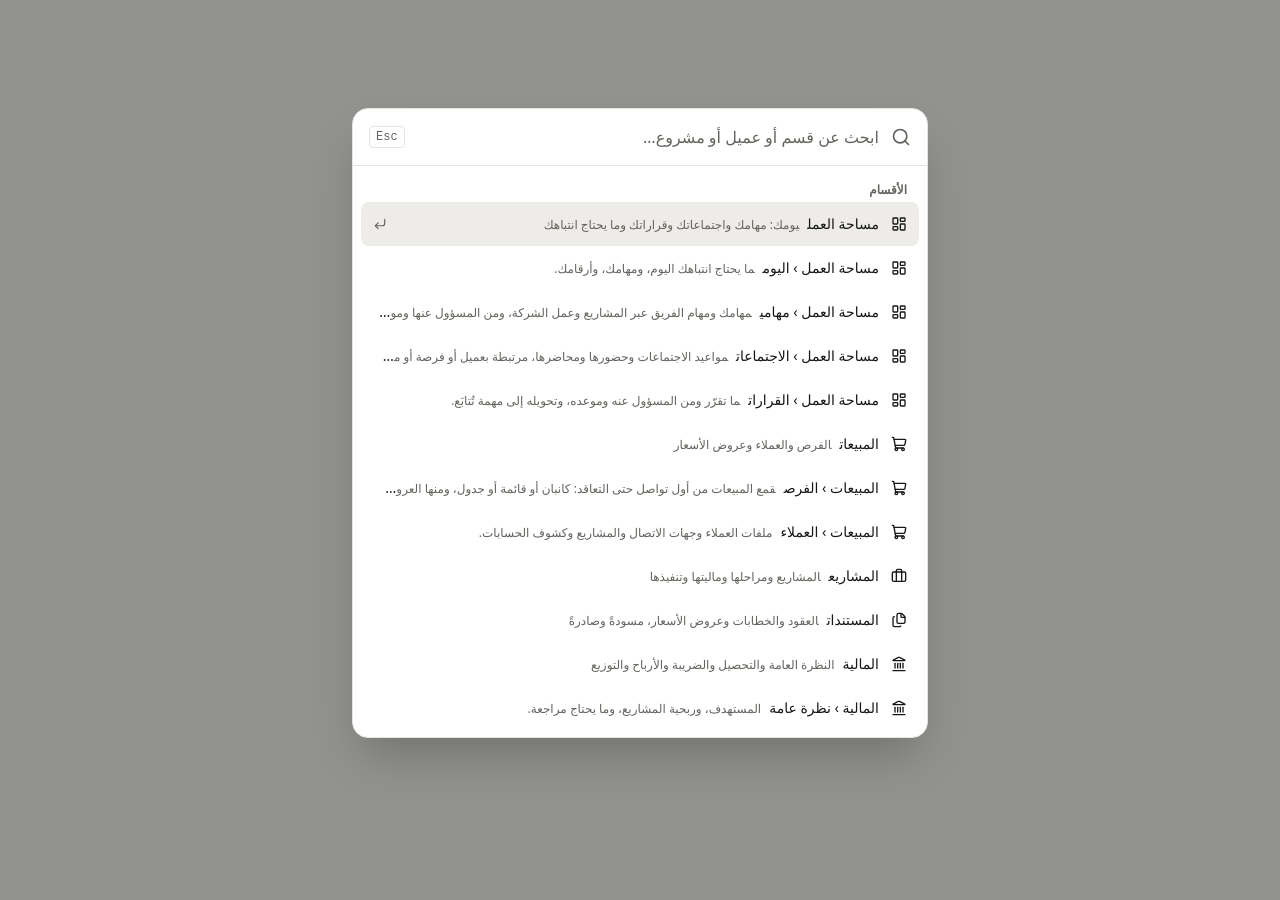
Test: CommandPalette › finds opportunities and meetings too, for those who may see them
Type "النور" into the dropdown at x=648, y=137, box [417,109,879,165]
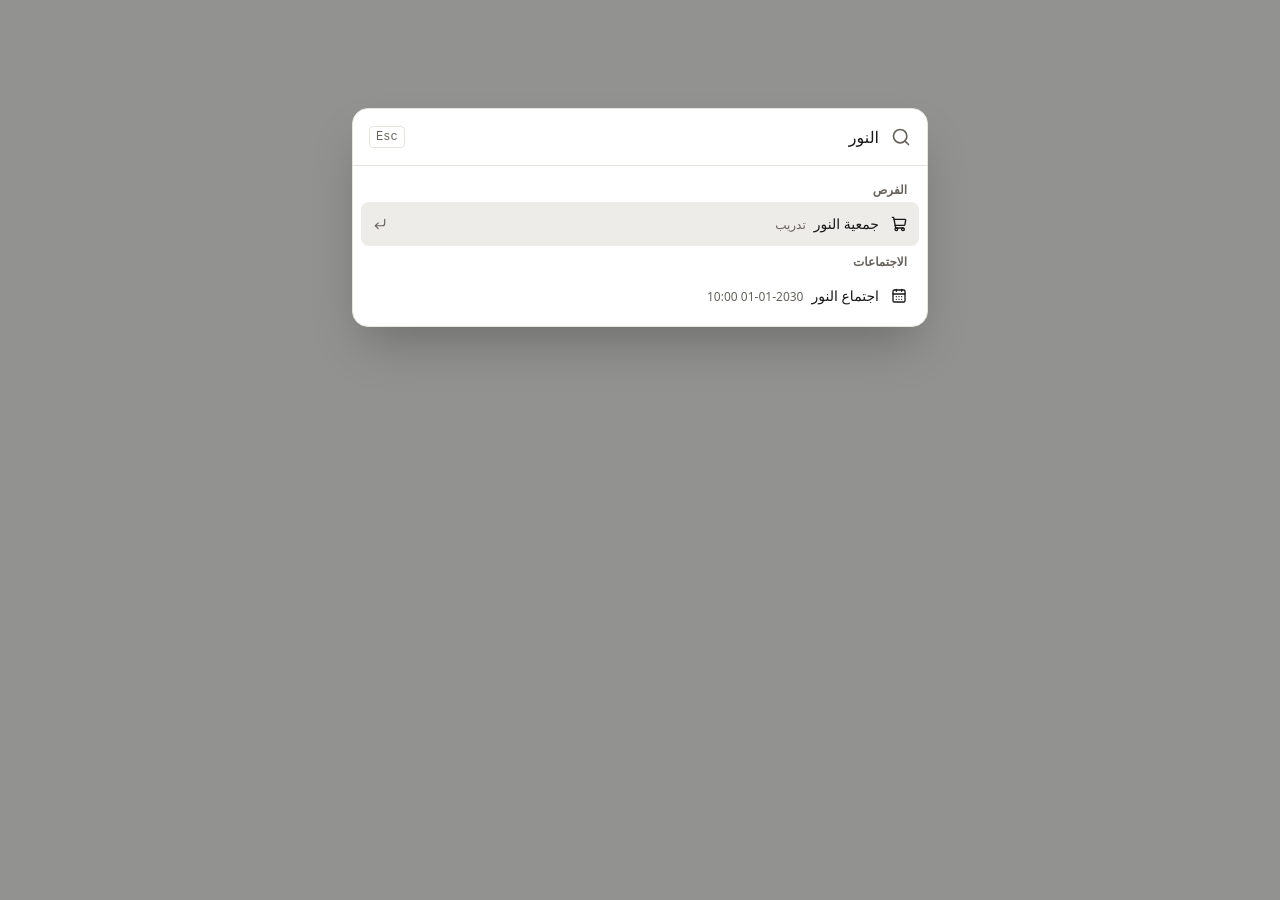
Now the option "جمعية النور" is shown, box [361,202,919,246]
Now the option "اجتماع النور2030-01-01 10:00" is shown, box [707,286,907,305]
